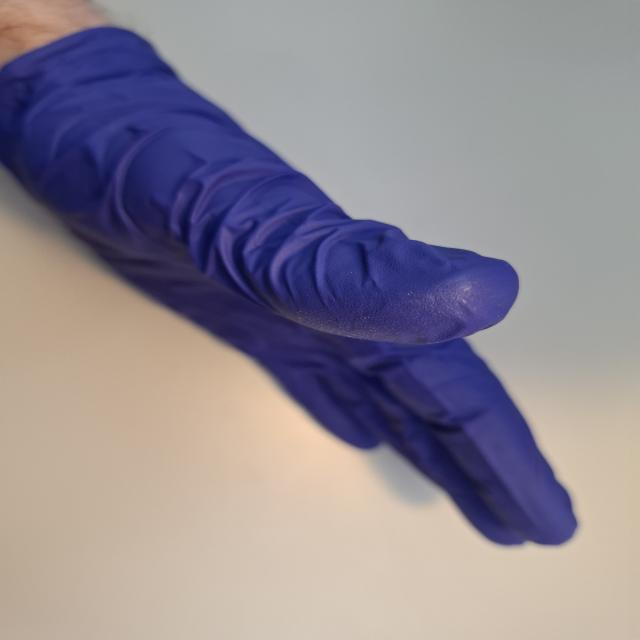glove_on: (0, 19, 582, 553)
